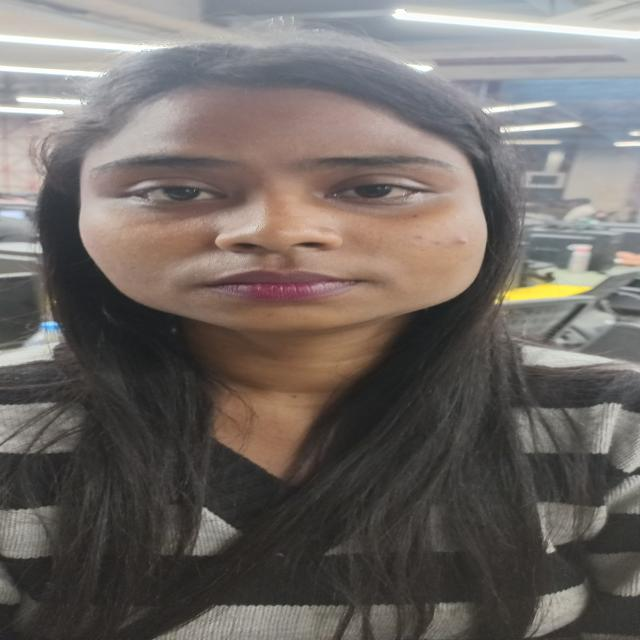Acne: (443, 234, 489, 250)
Spots: (401, 231, 453, 252)
